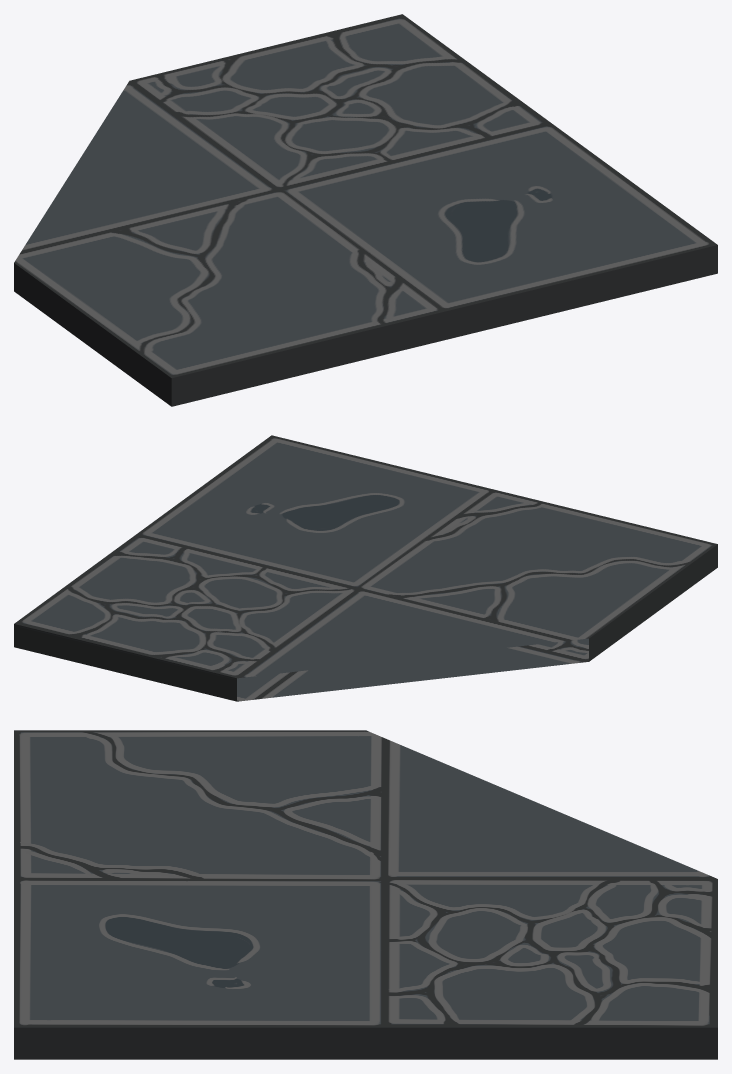
The model's file is FloorTile-LCURVE-SE_v1.3.fbx.
3 views of the same model, one above another, from view 1: azimuth 30°, elevation 25°; view 2: azimuth 150°, elevation 25°; view 3: azimuth 270°, elevation 25° (orthographic). The views are drawn at different scales.
Visible parts, largest first — view 1: Tile_Main.068; view 2: Tile_Main.068; view 3: Tile_Main.068.
Boxes of the visible parts, bbox=[...] form: Tile_Main.068: bbox=[14, 14, 717, 406]; Tile_Main.068: bbox=[14, 435, 717, 701]; Tile_Main.068: bbox=[14, 730, 717, 1059].
Bounding box in the file's own units: 100 × 100 × 5.
